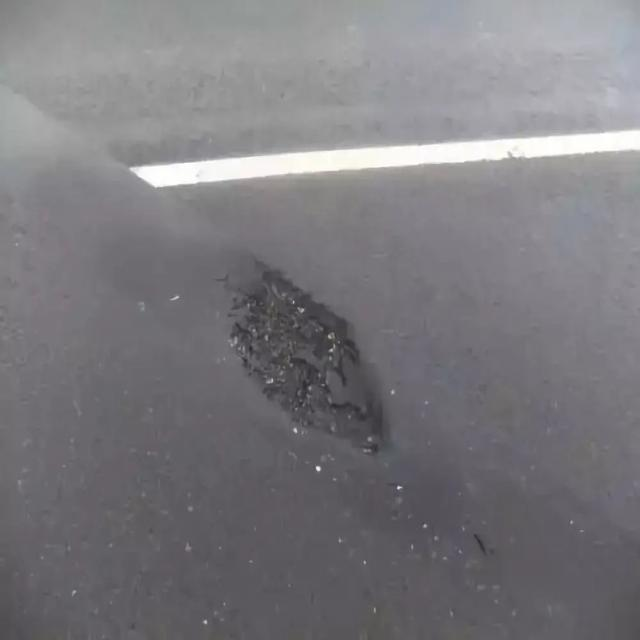Pothole: (219, 269, 392, 457)
